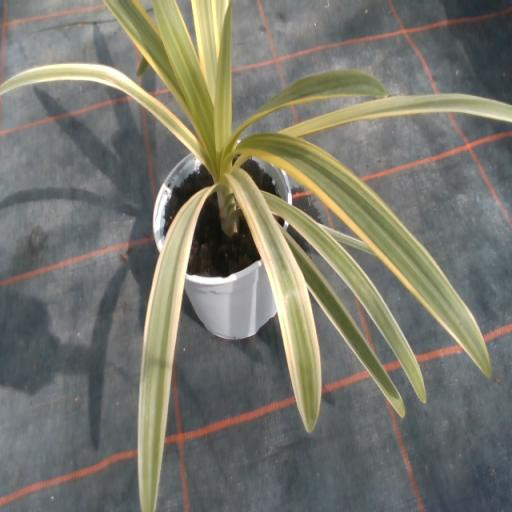Agapanthus-praecox: (226, 134, 490, 374), (270, 199, 425, 401), (138, 186, 218, 511), (225, 170, 321, 431), (282, 228, 404, 416), (0, 63, 210, 165), (223, 70, 386, 155), (282, 94, 511, 137), (154, 0, 212, 149), (105, 0, 183, 100), (191, 0, 218, 99), (215, 6, 231, 155), (323, 226, 373, 253)
